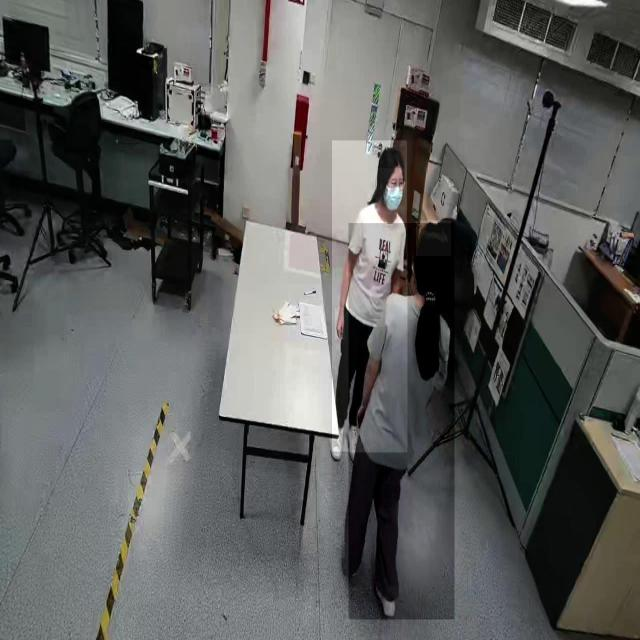face_mask: (381, 169, 407, 214)
hand_noglove: (354, 400, 369, 429), (335, 308, 345, 340)
head_nohelmet: (416, 220, 452, 257), (378, 147, 406, 169)
person: (349, 223, 455, 621), (332, 140, 408, 452)
shoes: (346, 417, 364, 468)
